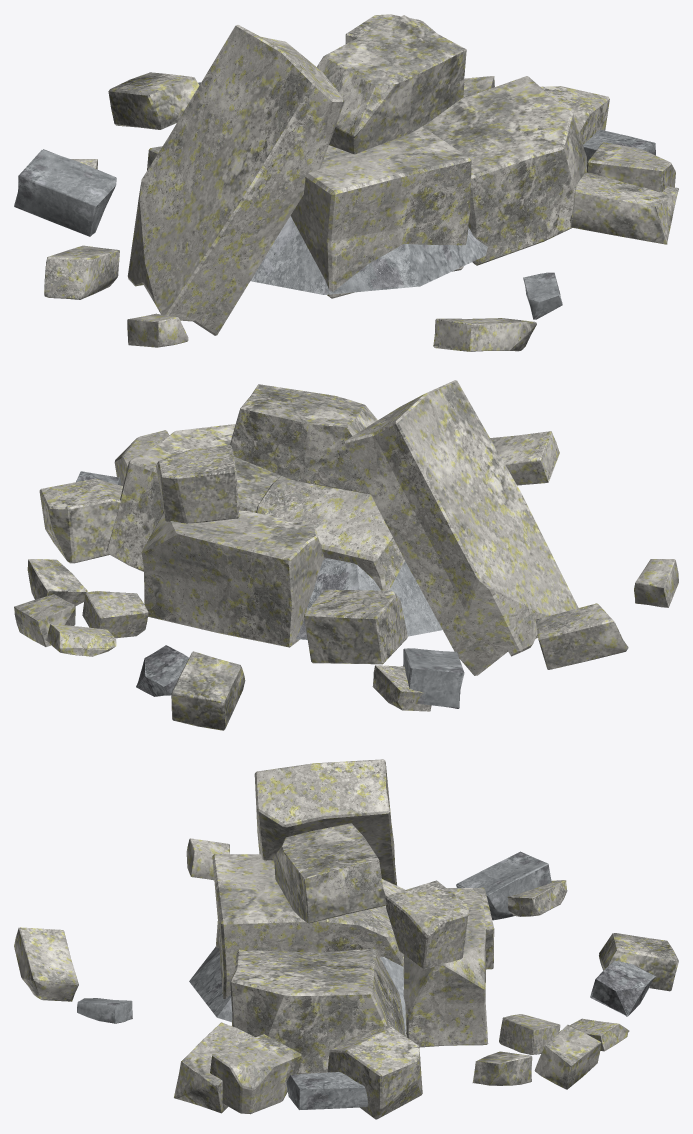
The model's file is cima-margalida.glb.
3 views of the same model, one above another, from view 1: azimuth 30°, elevation 25°; view 2: azimuth 150°, elevation 25°; view 3: azimuth 270°, elevation 25° (orthographic). The views are drawn at different scales.
Visible parts, largest first — view 1: hito_granito_liquen, hito_granito_gris, bloque5, bloque1, bloque9, bloque12, bloque7, bloque3, bloque4, bloque0, bloque10; view 2: hito_granito_liquen, bloque9, bloque12, hito_granito_gris, bloque5, bloque7, bloque2, bloque13, bloque10, bloque8, bloque3, bloque6 (+1 smaller); view 3: hito_granito_liquen, bloque7, bloque1, bloque5, bloque13, bloque9, bloque0, bloque8, hito_granito_gris, bloque2, bloque10, bloque11 (+3 smaller).
Part boxes in pixels (left/top/right/bottom): hito_granito_liquen: left=127, top=14, right=675, bottom=335; hito_granito_gris: left=250, top=216, right=487, bottom=294; bloque5: left=14, top=149, right=116, bottom=236; bloque1: left=570, top=173, right=678, bottom=244; bloque9: left=108, top=72, right=199, bottom=129; bloque12: left=44, top=245, right=119, bottom=299; bloque7: left=433, top=318, right=536, bottom=351; bloque3: left=127, top=313, right=188, bottom=347; bloque4: left=523, top=272, right=562, bottom=319; bloque0: left=583, top=129, right=655, bottom=162; bloque10: left=461, top=76, right=494, bottom=98; hito_granito_liquen: left=39, top=380, right=578, bottom=675; bloque9: left=171, top=651, right=245, bottom=730; bloque12: left=535, top=603, right=628, bottom=669; hito_granito_gris: left=296, top=557, right=442, bottom=639; bloque5: left=403, top=648, right=464, bottom=708; bloque7: left=490, top=431, right=559, bottom=485; bloque2: left=82, top=591, right=148, bottom=638; bloque13: left=14, top=594, right=75, bottom=646; bloque10: left=27, top=559, right=87, bottom=606; bloque8: left=136, top=645, right=188, bottom=696; bloque3: left=634, top=559, right=678, bottom=607; bloque6: left=47, top=624, right=116, bottom=656; hito_granito_liquen: left=210, top=759, right=494, bottom=1119; bloque7: left=14, top=927, right=78, bottom=1001; bloque1: left=174, top=1022, right=255, bottom=1113; bloque5: left=456, top=851, right=551, bottom=920; bloque13: left=534, top=1024, right=601, bottom=1089; bloque9: left=599, top=933, right=678, bottom=991; bloque0: left=286, top=1072, right=368, bottom=1109; bloque8: left=590, top=960, right=655, bottom=1016; hito_granito_gris: left=189, top=947, right=406, bottom=1032; bloque2: left=499, top=1014, right=560, bottom=1054; bloque10: left=472, top=1051, right=532, bottom=1085; bloque11: left=507, top=880, right=567, bottom=916.
Size of the model in its own units: 4.29 by 1.73 by 4.55.
Materials: 2 (2 with a texture image).
